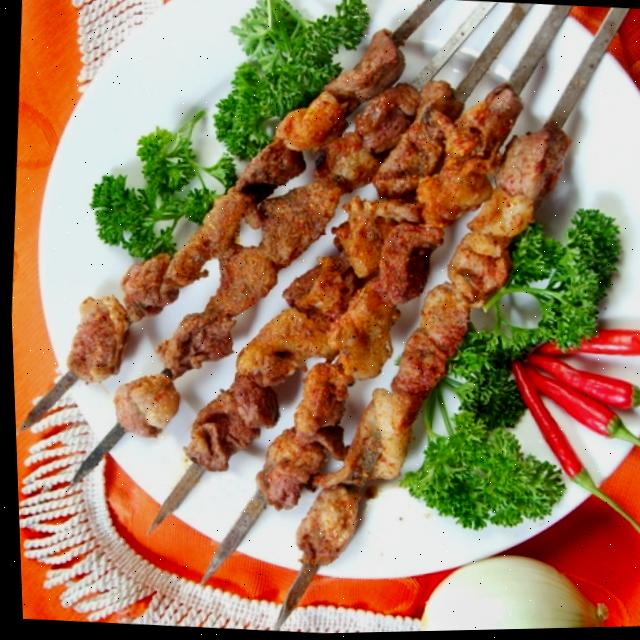烧串烤肉: (32, 21, 640, 632)
